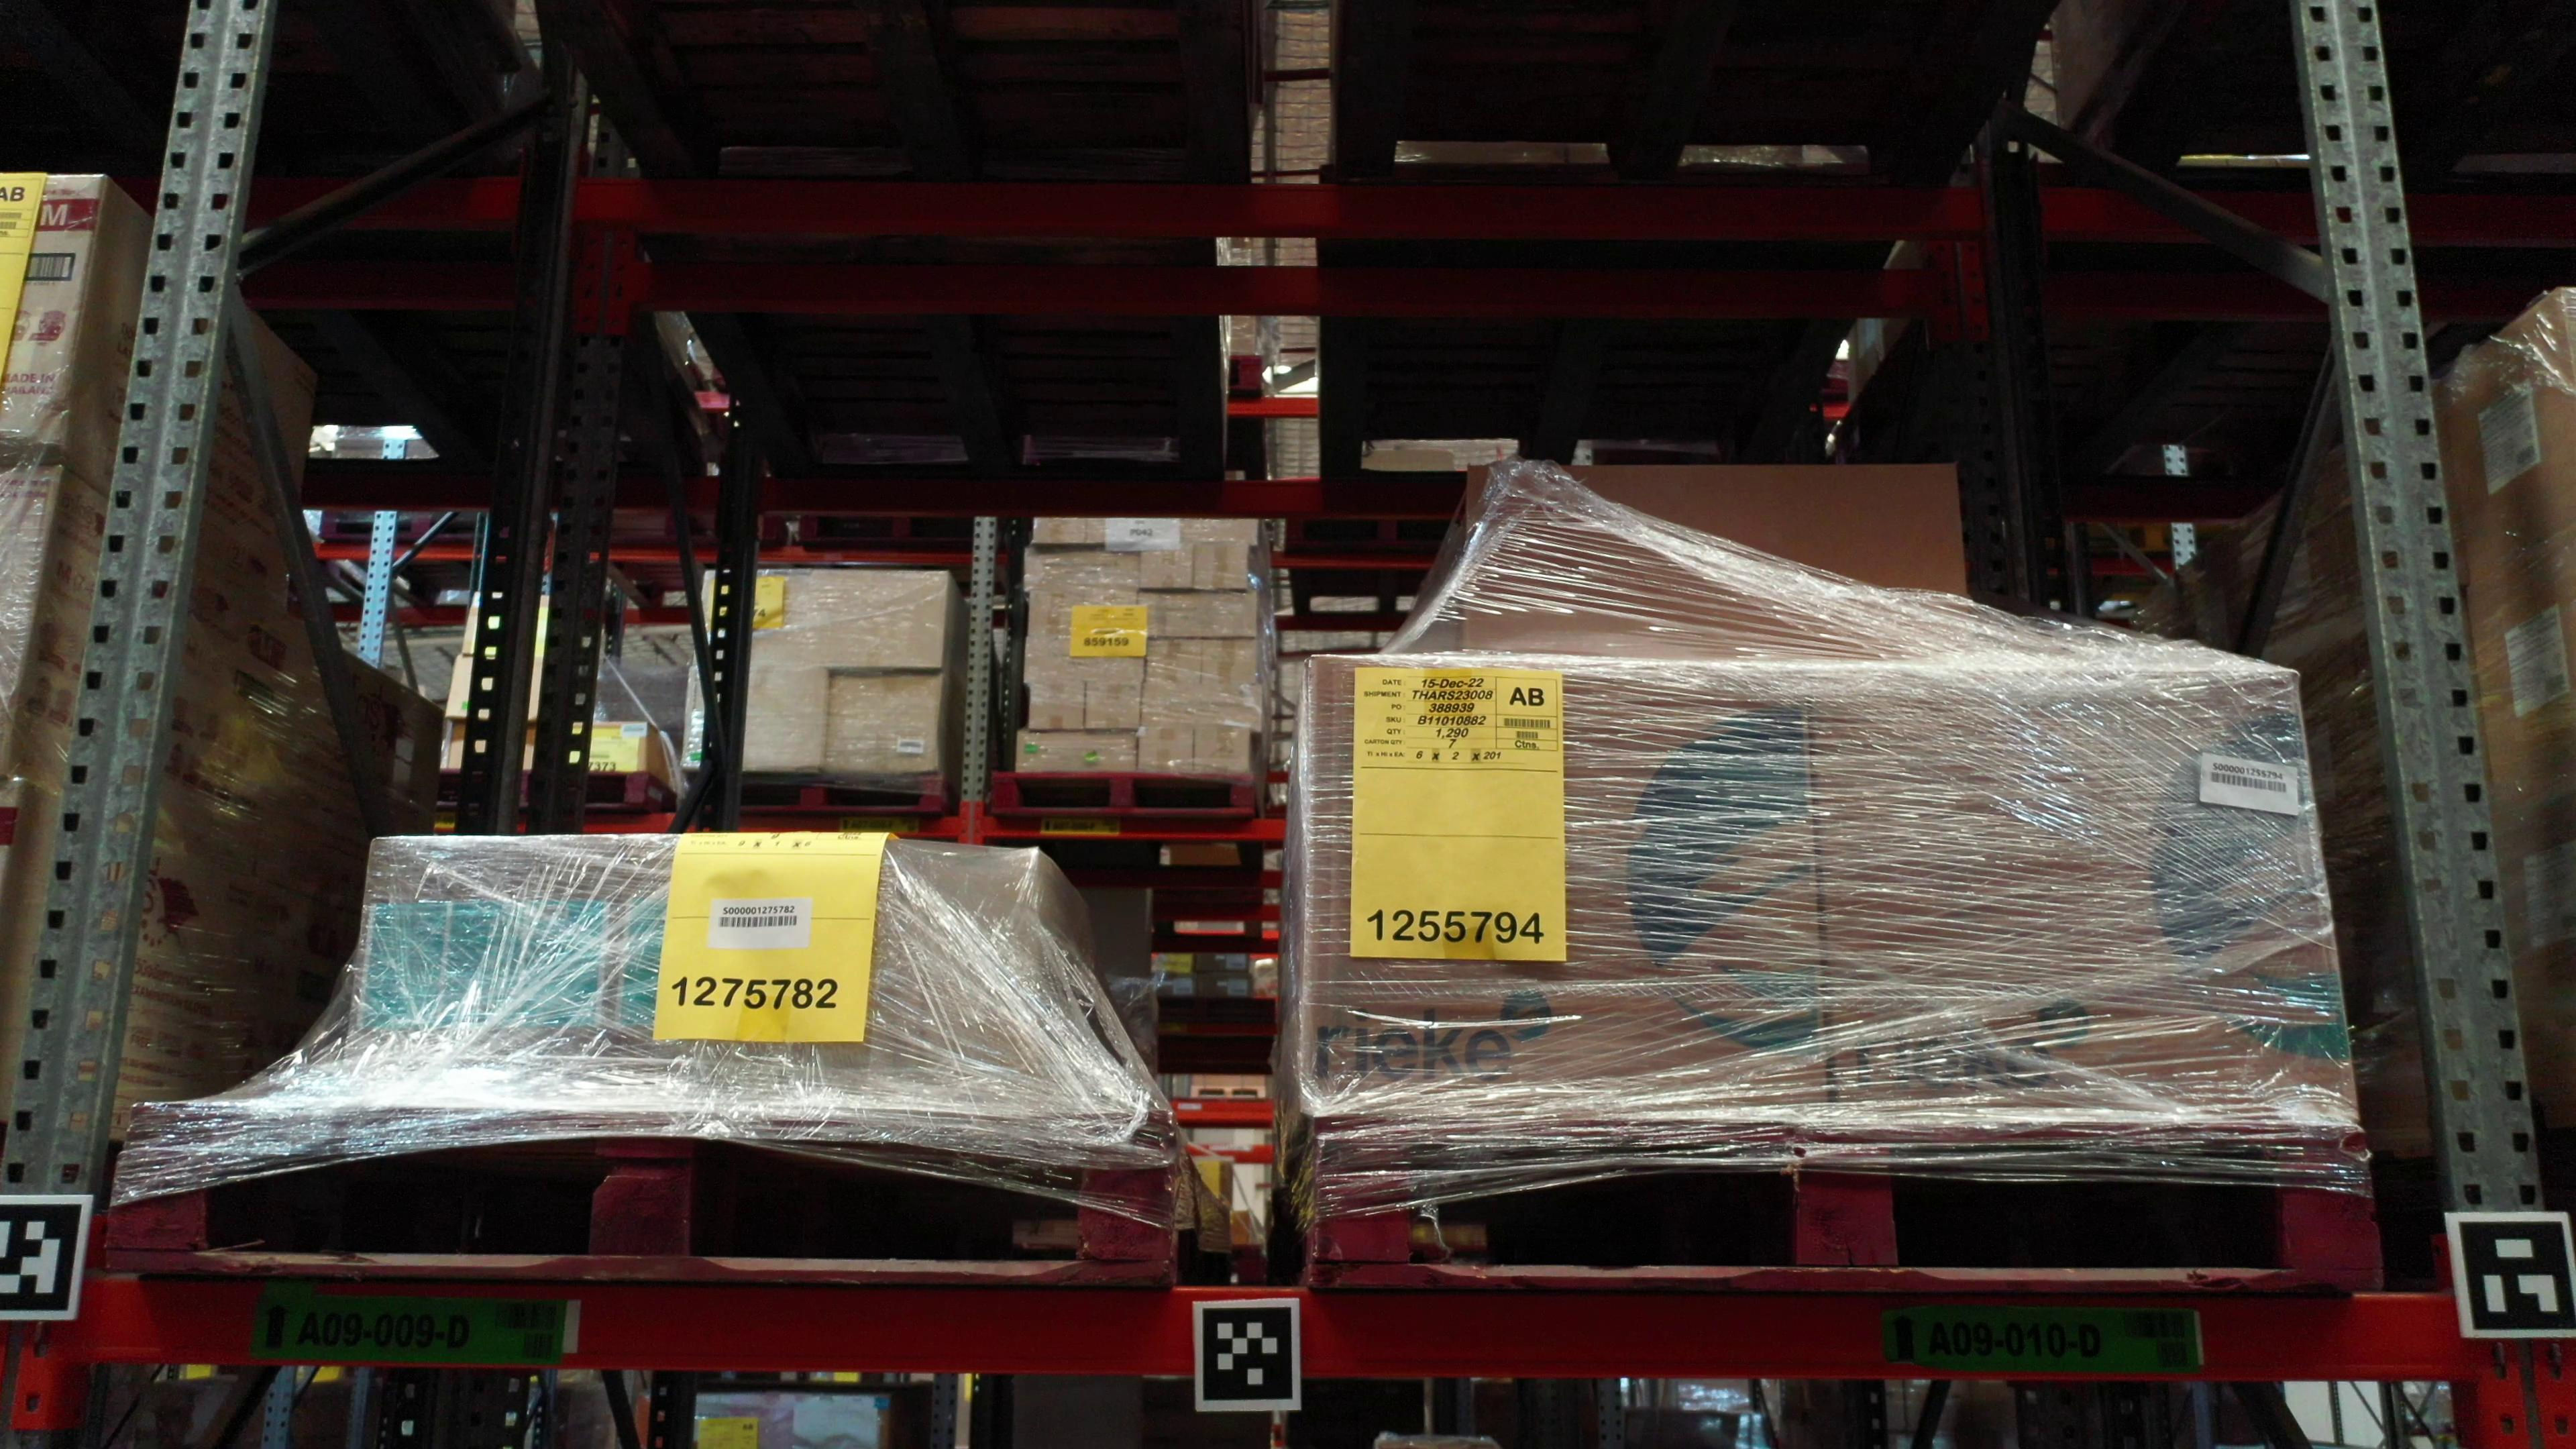-: (1812, 667, 2357, 1127), (1300, 655, 1831, 1123), (1461, 462, 1974, 672), (605, 835, 888, 1109), (340, 835, 626, 1102), (0, 170, 108, 458)
